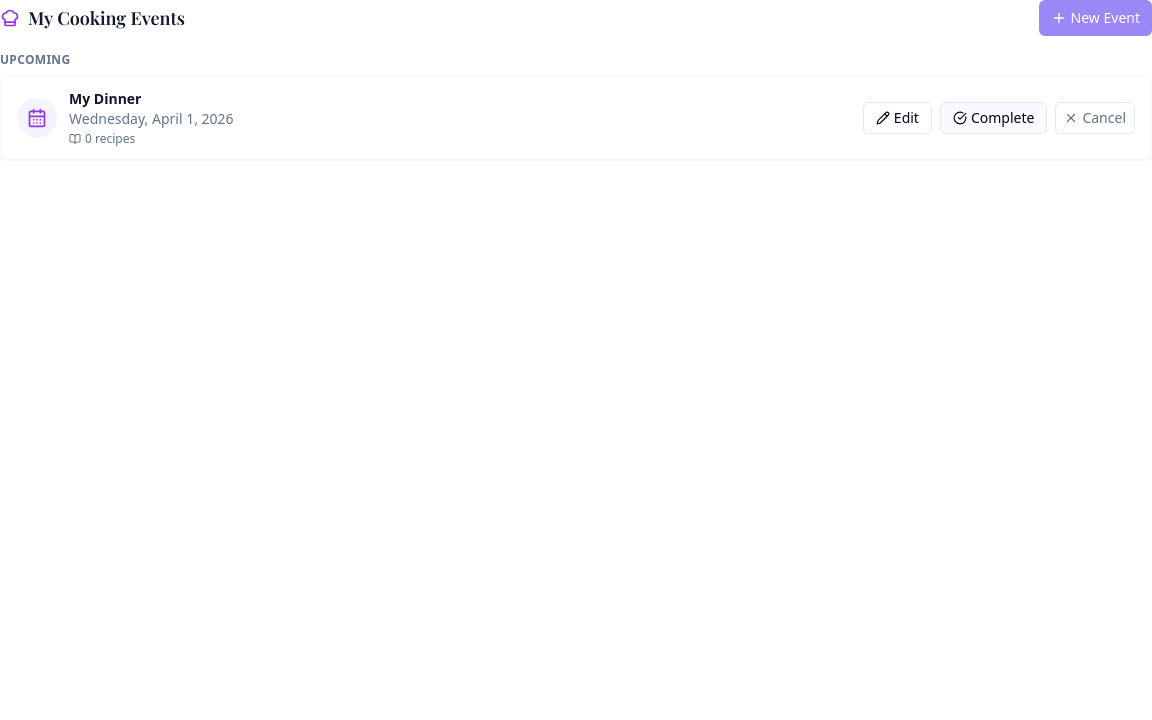
PersonalEventsList › removes event from list after confirming delete
Click the button "Cancel": (1095, 118) [1055,102,1135,134]
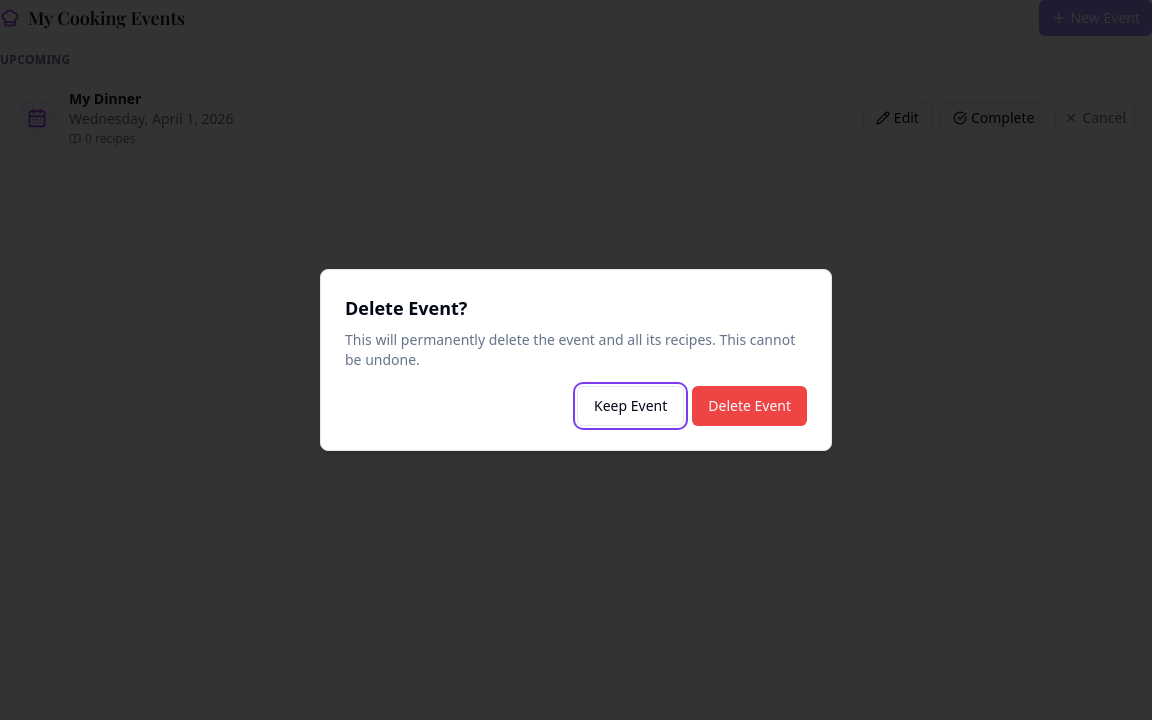
Expected: the heading "Delete Event?" is shown, [345,296,467,320]
Click the button "Delete Event": (750, 406) [692,386,807,426]
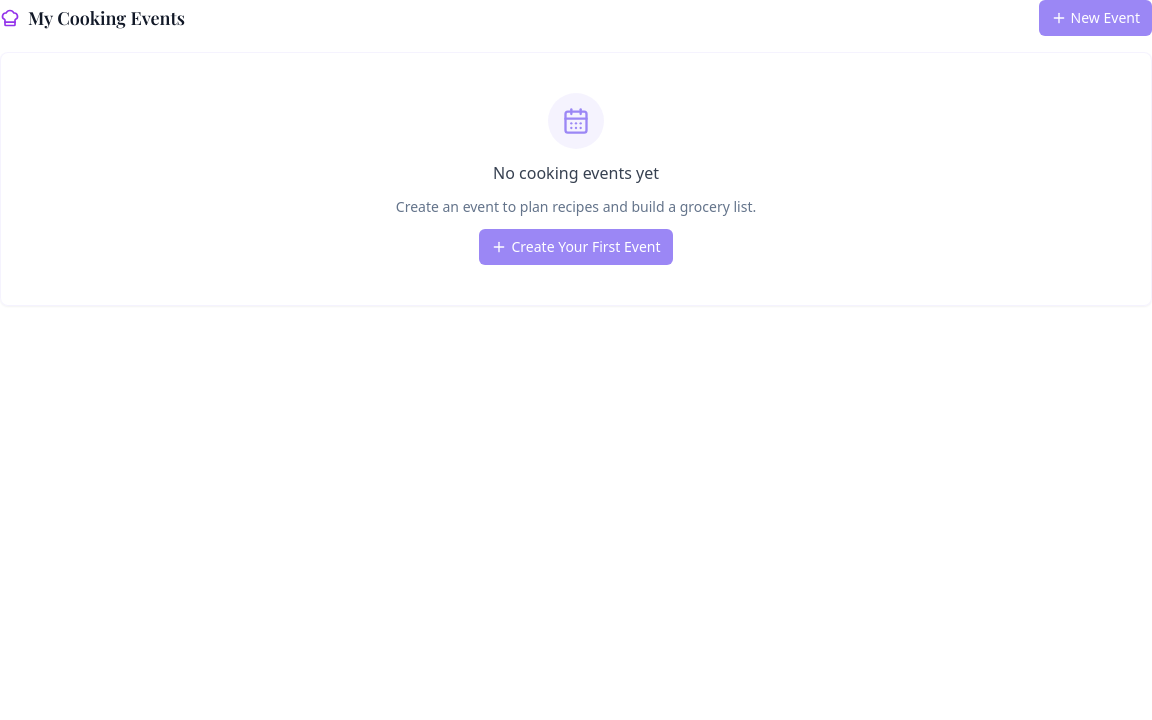
Expected: the text "My Dinner" is gone
